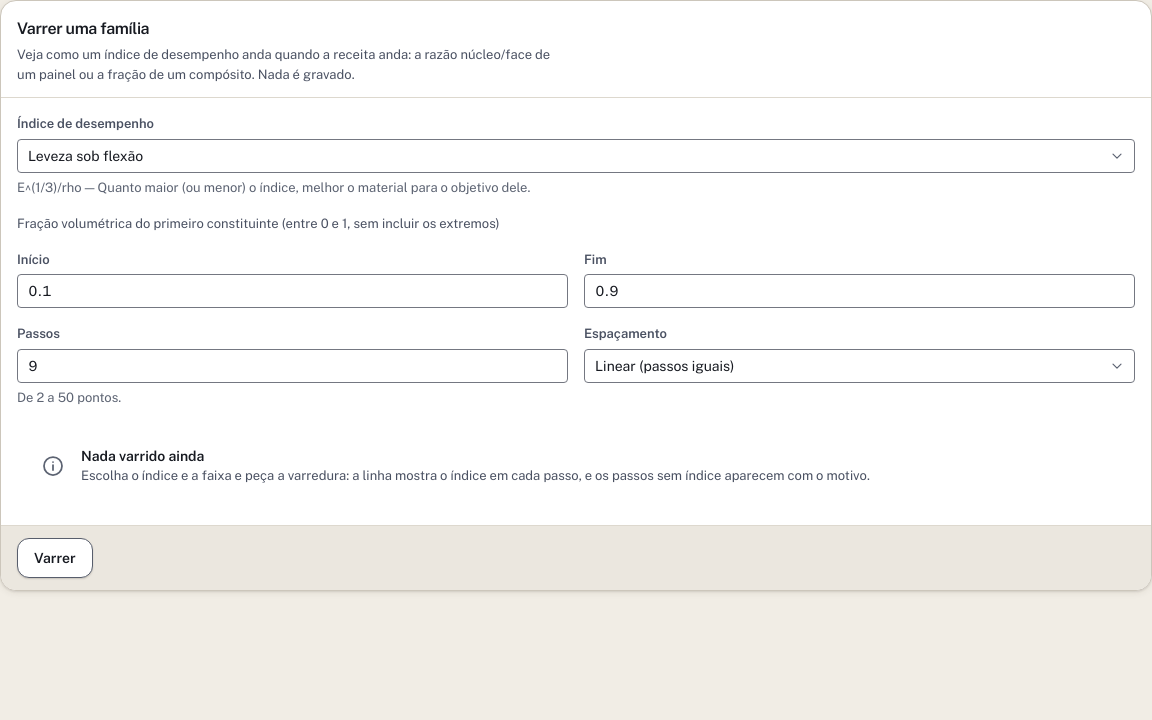
it: Varrer (D-144) › mostra o par mínimo/máximo do compósito como faixa
Expected: the text "Índice de desempenho" is shown, [17,116,154,131]
Click the button "Varrer" at (55, 558), box [17,538,93,578]
(page scrolled)
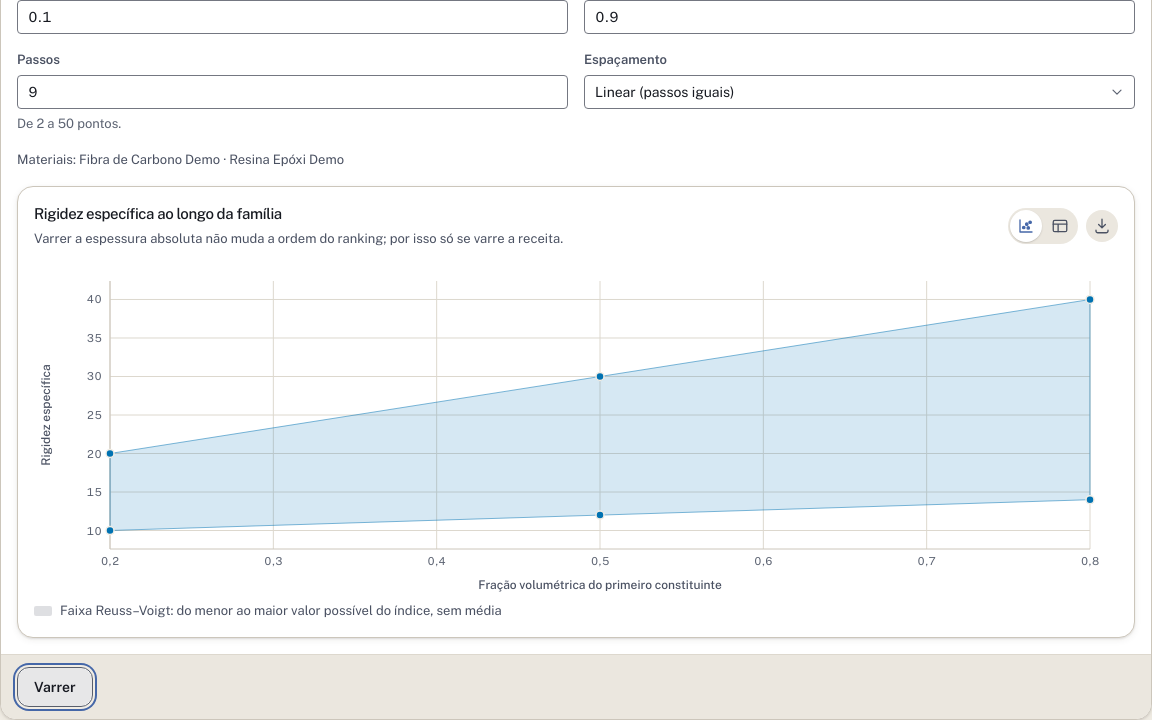
Expected: the text "Faixa Reuss–Voigt: do menor ao maior valor possível do índice, sem média" is shown, [34,603,502,618]
